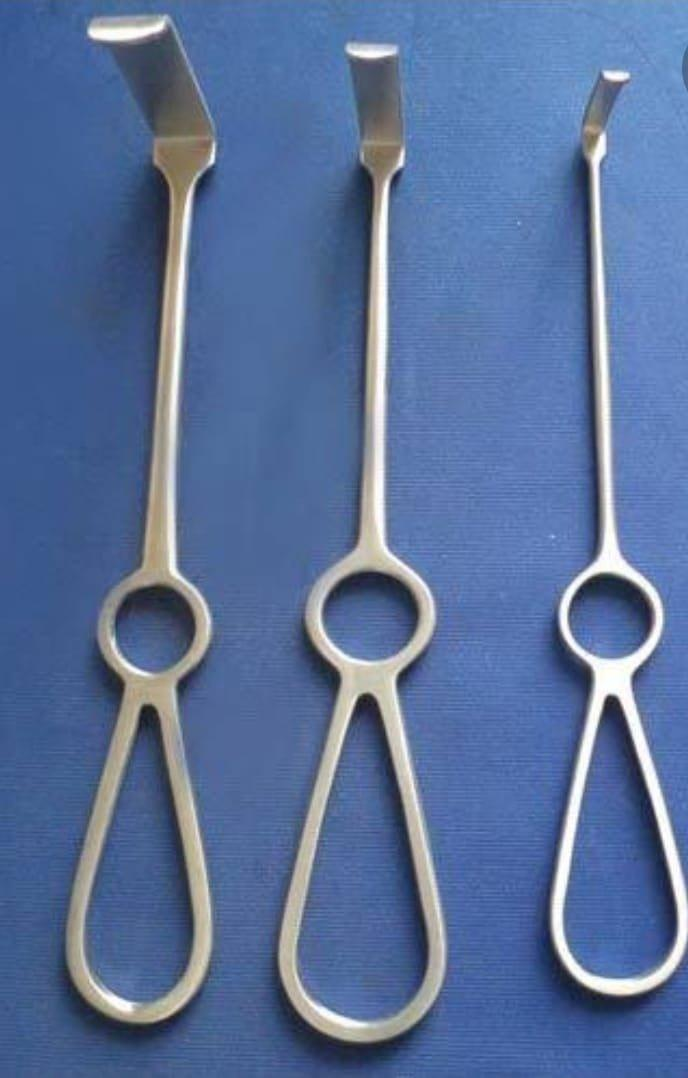Langenbach Retractor: (272, 22, 453, 1060), (52, 3, 225, 1040), (553, 42, 688, 1010)
